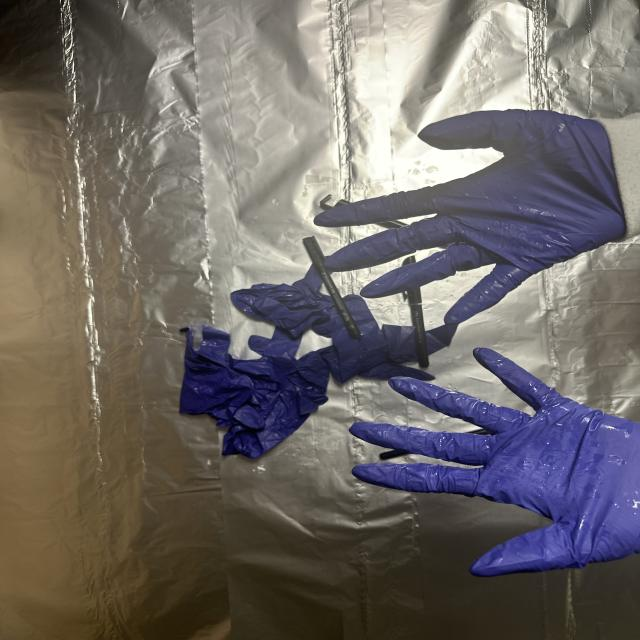gloves_contaminated: (315, 110, 637, 324), (350, 348, 640, 576)
